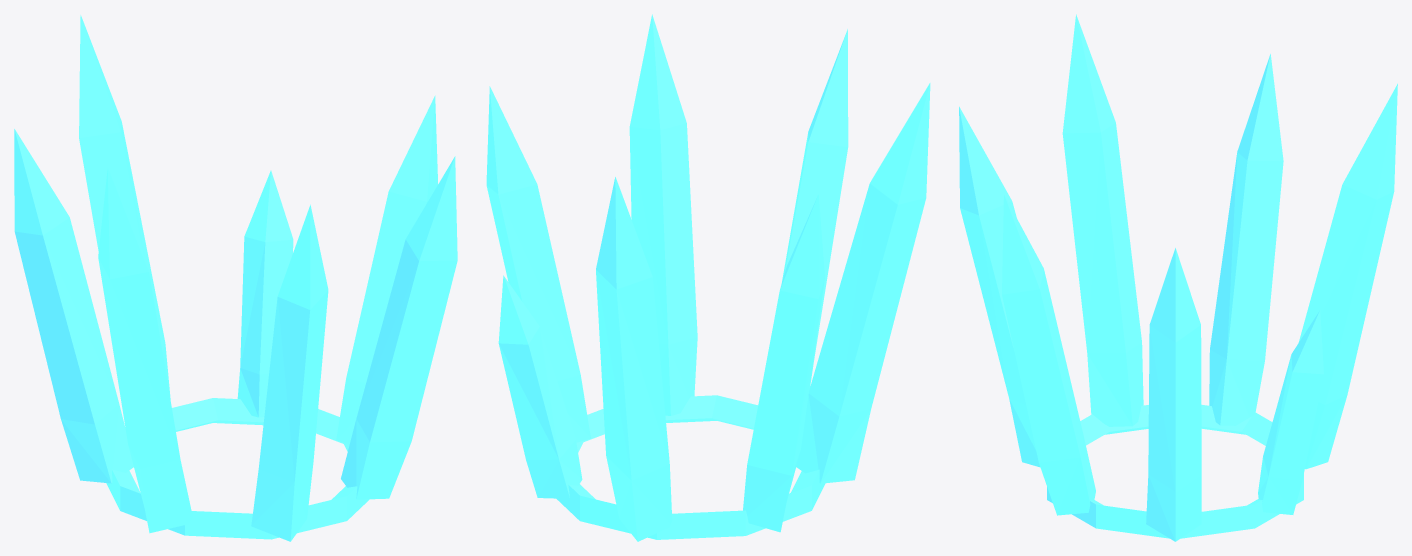
File: dc_crystal_crown.glb
The picture shows the model from 3 angles, left to right: view 1: azimuth 30°, elevation 25°; view 2: azimuth 150°, elevation 25°; view 3: azimuth 270°, elevation 25°; orthographic projection. The views are drawn at different scales.
Visible parts, largest first — view 1: part.dc_crystal_crown; view 2: part.dc_crystal_crown; view 3: part.dc_crystal_crown.
Boxes of the visible parts, x1=… form: part.dc_crystal_crown: x1=14, y1=15, x2=457, y2=541; part.dc_crystal_crown: x1=486, y1=14, x2=930, y2=541; part.dc_crystal_crown: x1=959, y1=14, x2=1397, y2=541.
Size of the model in its own units: 0.3321 by 0.3296 by 0.344.
